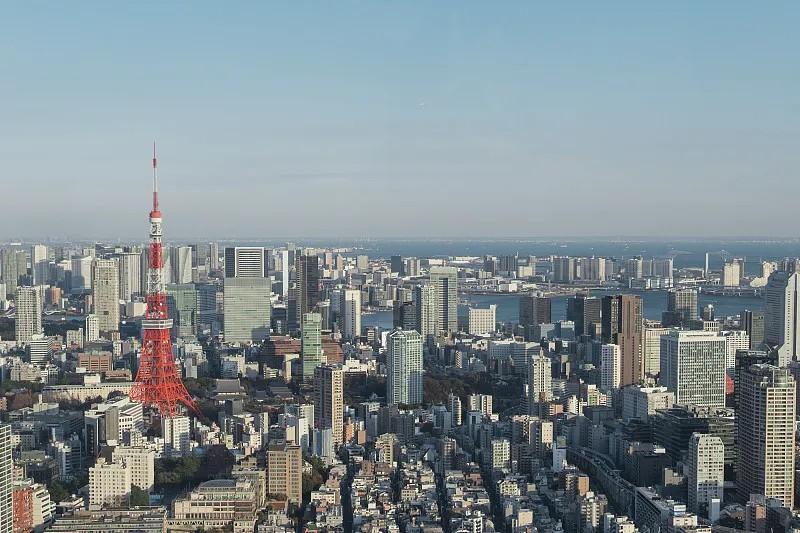Tokyo: (130, 137, 207, 425)
